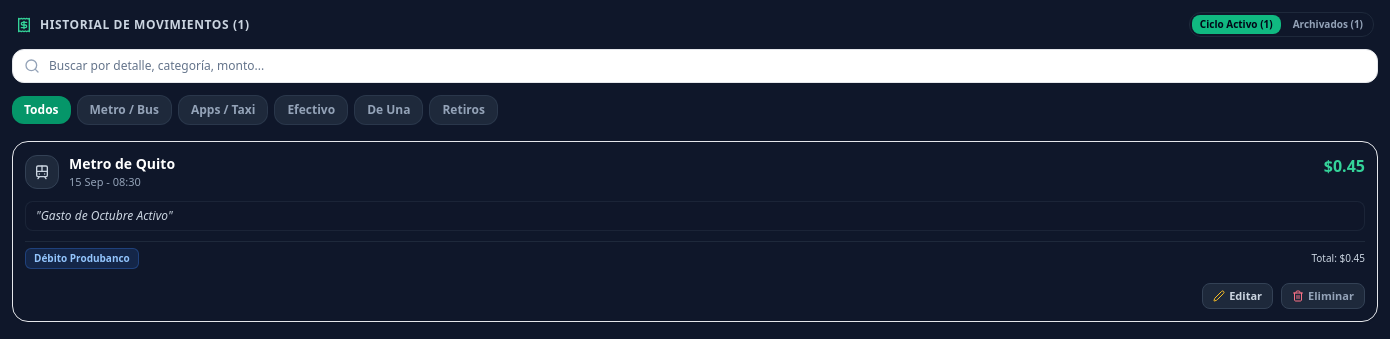
Test: TransactionHistory › filters between active cycle and archived movements when toggle is present
Expected: the button "Ciclo Activo (1)" is shown, [1192,15,1281,34]
Expected: the text "\"Gasto de Octubre Activo\"" is shown, [25,200,1365,230]
Switch to archived
Click the button "Archivados (1)": (1328, 24) [1285,15,1371,34]
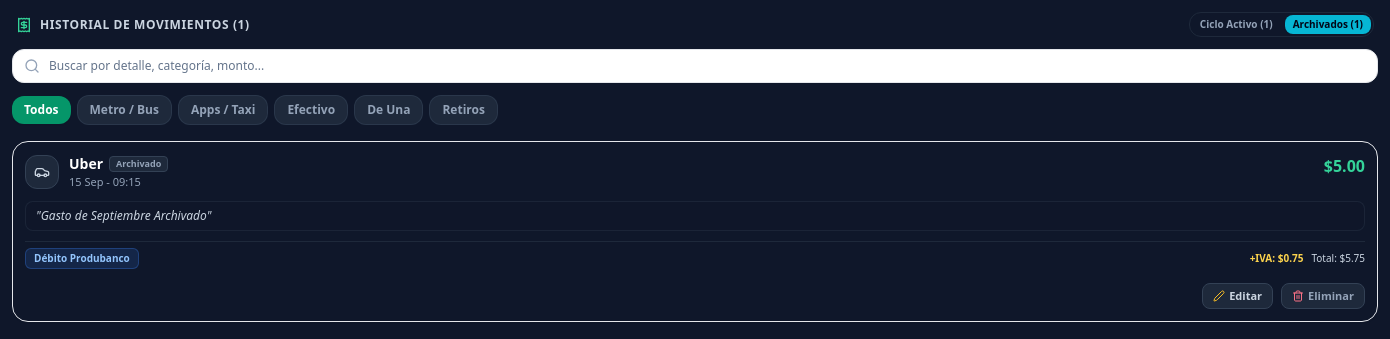
Expected: the text "\"Gasto de Octubre Activo\"" is gone
Expected: the text "\"Gasto de Septiembre Archivado\"" is shown, [25,200,1365,230]
Expected: the text "Archivado" is shown, [109,156,168,172]
